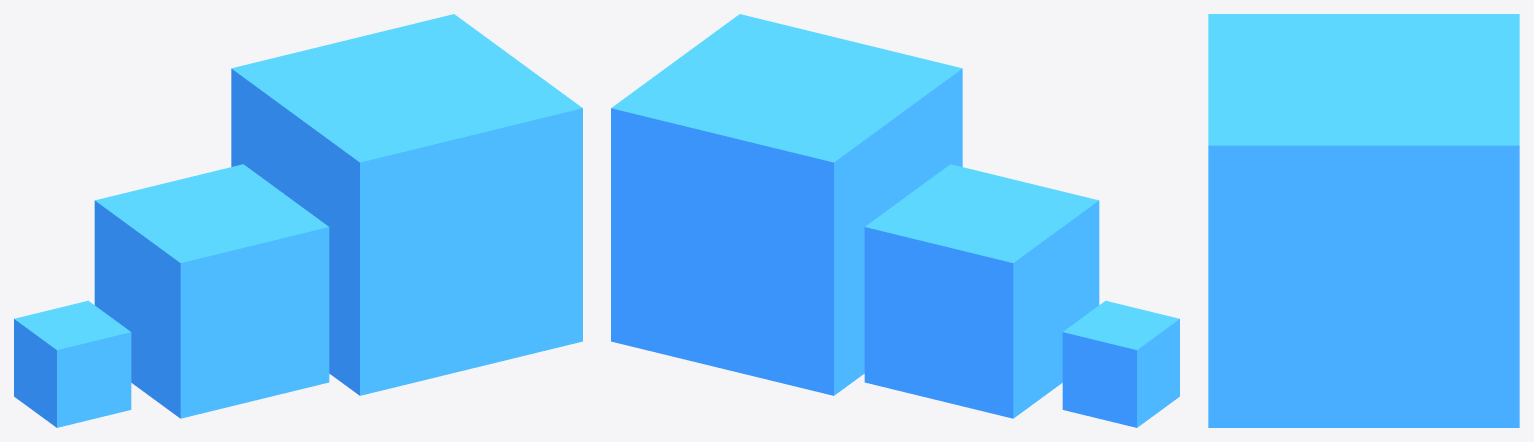
File: size.glb
3 renders of one model, left to right at view 1: azimuth 30°, elevation 25°; view 2: azimuth 150°, elevation 25°; view 3: azimuth 270°, elevation 25°, orthographic. The views are drawn at different scales.
Visible parts, largest first — view 1: surface2, surface1, surface0; view 2: surface2, surface1, surface0; view 3: surface2.
Part boxes in pixels (x1,y1,x2,y2): surface2: (231,14,582,395); surface1: (94,164,329,418); surface0: (14,300,131,427); surface2: (611,14,962,395); surface1: (864,164,1099,418); surface0: (1062,300,1179,427); surface2: (1208,14,1519,427).
Size of the model in its own units: 0.52 by 0.24 by 0.24.
